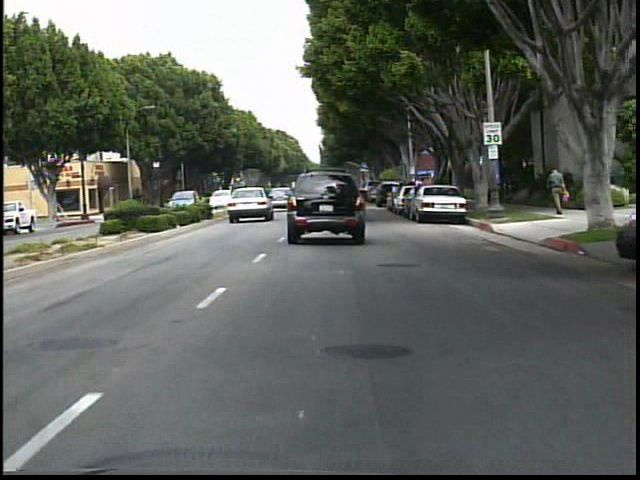person: (545, 163, 570, 220)
